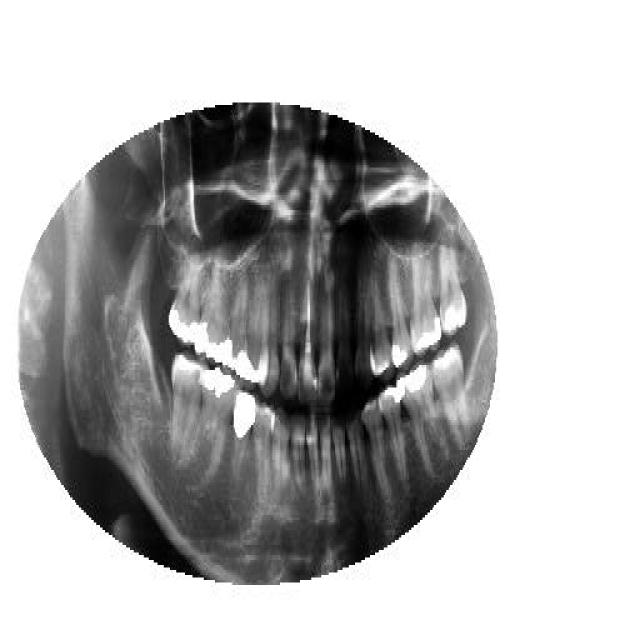Fillings: (397, 365, 445, 475), (192, 368, 232, 490), (232, 250, 266, 390), (194, 255, 234, 365), (169, 245, 201, 347), (229, 390, 259, 485), (438, 240, 468, 335), (388, 255, 412, 370)
